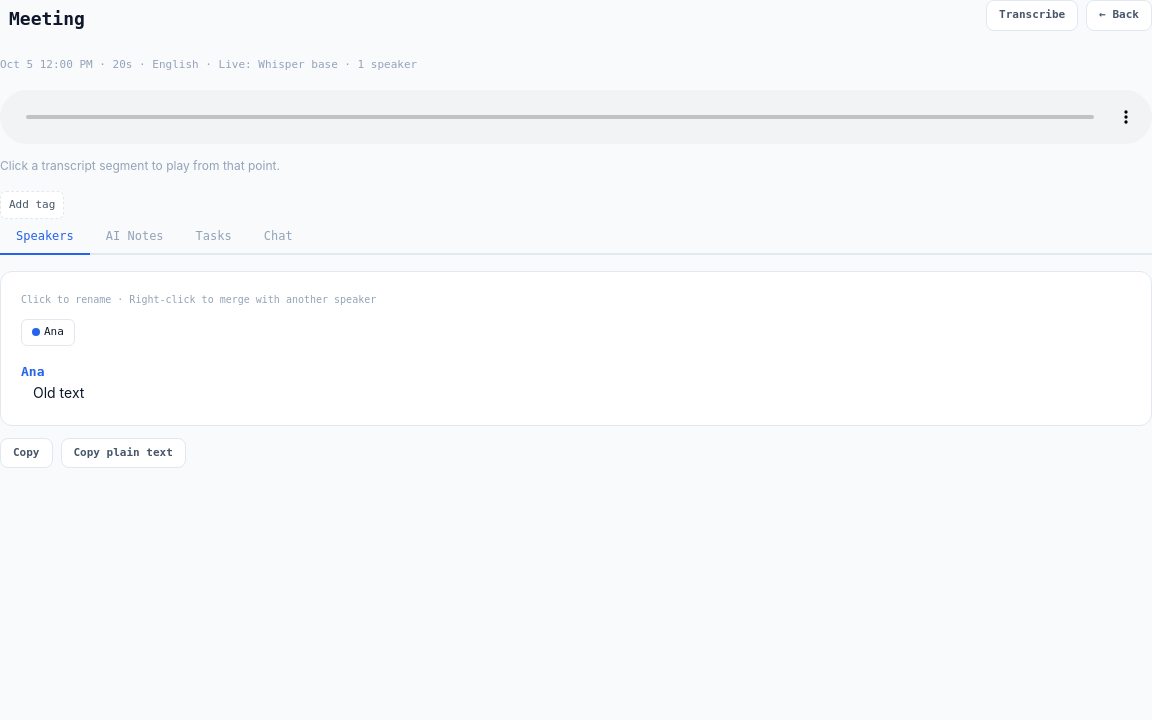
it: failed stage keeps completed draft visible and accepted session unchanged
Click the button "Transcribe".
click(1032, 15)  # box [986,0,1078,30]
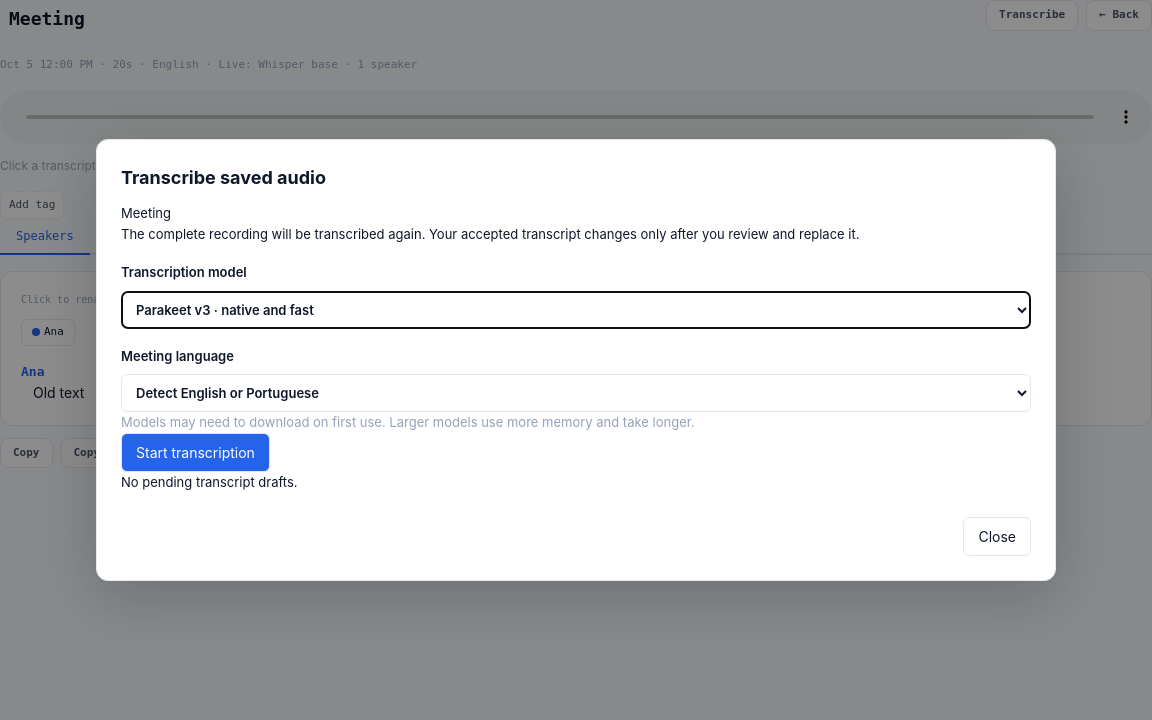
Click the button "Start transcription".
click(195, 452)  # box [121,433,270,472]
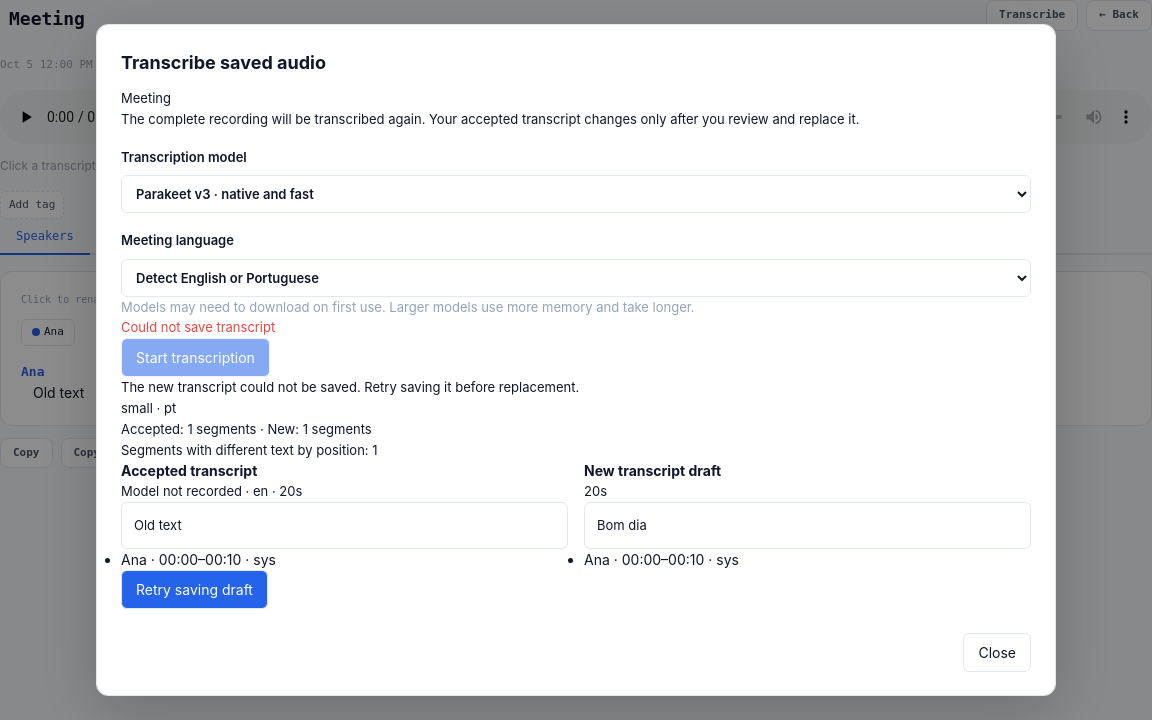
Result: the message reads "Could not save transcript" at [121,319,275,335]
Result: the text "Bom dia" is shown at [584,502,1031,549]
Result: the button "Retry saving draft" is enabled at [121,570,268,609]
